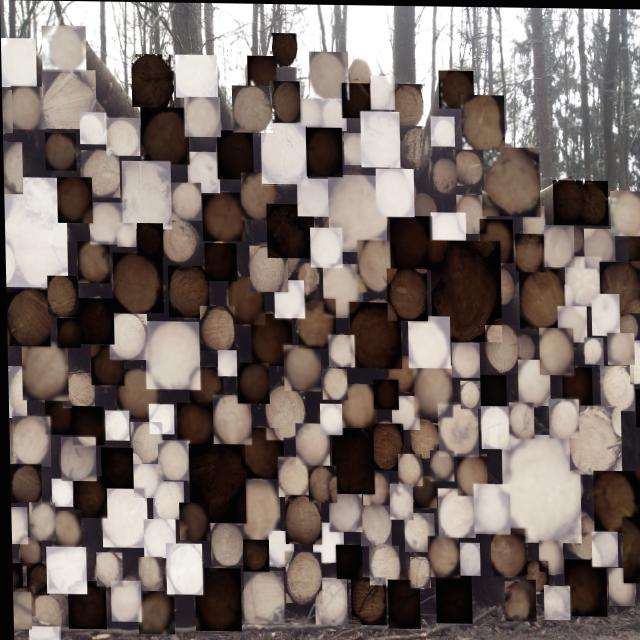wood-log: (499, 433, 579, 542), (429, 239, 501, 341), (3, 177, 67, 288), (327, 174, 386, 252), (187, 443, 244, 523), (481, 146, 540, 215), (144, 321, 199, 389), (567, 403, 620, 473), (348, 301, 400, 368), (121, 160, 171, 229), (41, 69, 96, 129), (111, 252, 162, 313), (192, 567, 239, 631), (591, 469, 639, 531), (260, 123, 307, 185), (329, 427, 373, 493), (231, 479, 278, 539), (99, 488, 146, 548), (20, 341, 67, 401), (140, 107, 189, 164), (518, 267, 564, 327), (266, 203, 313, 258), (552, 178, 608, 224), (461, 93, 505, 151), (5, 289, 49, 347), (562, 557, 605, 615), (389, 215, 432, 269), (360, 110, 400, 167), (131, 54, 174, 107), (114, 368, 158, 419), (238, 427, 282, 478), (406, 315, 449, 367), (322, 263, 363, 317), (264, 385, 305, 439), (167, 265, 209, 317), (249, 313, 291, 365), (241, 570, 282, 623), (356, 239, 397, 292), (436, 403, 477, 456), (201, 191, 244, 241), (598, 260, 640, 311), (386, 267, 426, 320), (41, 26, 86, 72), (413, 364, 452, 417), (296, 297, 335, 348), (43, 546, 84, 594), (211, 394, 250, 444), (10, 416, 49, 466), (231, 85, 272, 132), (309, 51, 349, 99), (375, 167, 414, 216), (563, 255, 601, 305), (175, 54, 218, 98), (163, 543, 200, 594), (65, 581, 104, 629), (283, 551, 319, 603), (435, 487, 473, 536), (471, 483, 508, 533), (108, 313, 147, 360), (216, 130, 253, 179), (305, 127, 342, 176), (283, 494, 319, 544), (74, 298, 113, 344), (248, 245, 287, 291), (81, 150, 119, 197), (282, 344, 320, 391), (433, 574, 470, 622), (227, 276, 264, 324), (1, 38, 37, 87), (348, 576, 384, 624), (489, 527, 525, 575), (240, 172, 276, 219), (484, 324, 519, 372), (367, 422, 402, 470), (339, 383, 376, 428), (198, 305, 234, 351), (56, 177, 92, 223), (385, 578, 418, 628), (538, 326, 572, 374), (135, 591, 172, 634), (175, 402, 212, 445), (59, 436, 94, 481), (598, 364, 633, 409), (312, 577, 345, 624), (11, 86, 46, 130), (208, 520, 242, 565), (516, 358, 549, 404), (430, 211, 465, 254), (293, 422, 328, 465), (184, 96, 220, 137), (390, 83, 425, 125), (89, 202, 124, 244), (71, 476, 105, 519), (479, 218, 512, 262), (128, 421, 161, 464), (438, 69, 474, 108), (187, 366, 222, 406), (609, 189, 640, 234), (76, 241, 109, 283), (105, 117, 140, 156), (89, 345, 123, 385), (99, 447, 132, 488), (235, 362, 268, 403), (309, 226, 342, 267), (455, 452, 486, 495), (620, 515, 640, 581), (479, 404, 509, 448), (187, 151, 219, 192), (425, 535, 457, 576), (358, 504, 390, 545), (46, 276, 78, 317), (543, 223, 573, 266), (407, 420, 440, 459), (203, 242, 236, 281), (310, 522, 342, 562), (276, 456, 308, 496), (583, 227, 615, 267), (502, 580, 534, 620), (156, 440, 188, 480), (366, 544, 397, 585), (108, 580, 139, 621), (269, 80, 300, 121), (327, 493, 360, 531), (71, 406, 103, 445), (142, 519, 174, 558), (8, 464, 40, 503), (296, 177, 328, 216), (455, 193, 486, 233), (547, 397, 578, 437), (590, 292, 619, 334), (44, 133, 76, 171), (150, 481, 182, 519), (402, 512, 433, 551), (560, 365, 591, 404), (514, 232, 545, 270), (170, 182, 201, 220), (49, 511, 80, 548), (453, 148, 484, 185), (273, 279, 303, 317), (177, 502, 207, 540), (61, 373, 93, 408), (387, 354, 417, 391), (556, 304, 586, 341), (306, 464, 335, 502), (43, 399, 72, 435), (450, 341, 479, 377), (2, 142, 22, 194), (606, 566, 633, 604), (132, 464, 162, 498), (390, 394, 419, 429), (341, 82, 370, 117), (247, 55, 277, 88), (6, 366, 25, 418), (27, 503, 53, 541), (429, 157, 456, 193), (266, 530, 292, 567), (507, 401, 533, 437), (79, 112, 108, 144), (271, 32, 298, 66), (333, 544, 360, 578), (541, 584, 568, 618), (590, 530, 616, 565), (136, 223, 163, 256), (387, 482, 411, 519), (94, 552, 120, 586), (478, 373, 505, 405), (360, 472, 387, 504), (240, 539, 267, 571), (606, 331, 633, 363), (136, 556, 160, 591), (296, 98, 322, 130), (327, 334, 353, 366), (536, 539, 561, 572), (371, 74, 395, 108), (320, 368, 346, 399), (321, 98, 346, 130), (522, 559, 546, 592), (147, 404, 173, 434), (372, 378, 397, 409), (411, 475, 435, 507), (396, 453, 420, 485), (343, 132, 367, 164), (103, 410, 128, 440), (428, 449, 452, 480), (430, 115, 454, 145), (318, 403, 341, 434), (24, 563, 46, 595), (10, 592, 29, 629), (457, 541, 478, 574), (56, 318, 79, 348), (10, 586, 33, 616), (18, 537, 40, 566), (49, 478, 71, 507), (408, 556, 428, 587), (522, 204, 544, 232), (9, 507, 25, 544), (459, 380, 479, 408), (216, 349, 236, 376), (583, 336, 602, 364), (628, 338, 640, 382), (116, 222, 135, 247), (627, 227, 640, 263), (26, 626, 59, 640), (2, 90, 12, 133), (11, 608, 26, 631), (10, 563, 20, 588), (634, 387, 640, 425)
